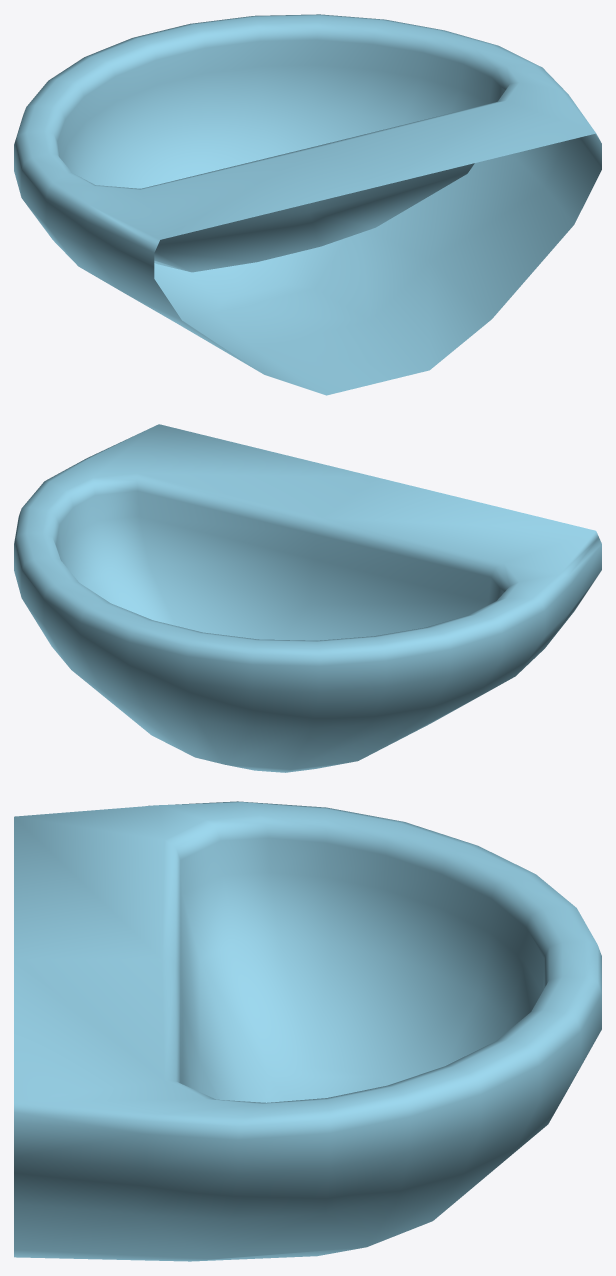
Rendered from BATHROOM_washBasin_01.FBX.
The picture shows the model from 3 angles, top to bottom: view 1: azimuth 30°, elevation 25°; view 2: azimuth 150°, elevation 25°; view 3: azimuth 270°, elevation 25°; orthographic projection. The views are drawn at different scales.
Parts seen in each view (by area): view 1: BATHROOM_washBasin_01; view 2: BATHROOM_washBasin_01; view 3: BATHROOM_washBasin_01.
Part boxes in pixels (x1=…): BATHROOM_washBasin_01: x1=14, y1=14, x2=601, y2=395; BATHROOM_washBasin_01: x1=14, y1=424, x2=601, y2=772; BATHROOM_washBasin_01: x1=14, y1=801, x2=601, y2=1261.
Bounding box in the file's own units: 80.58 × 30.2 × 60.96.
